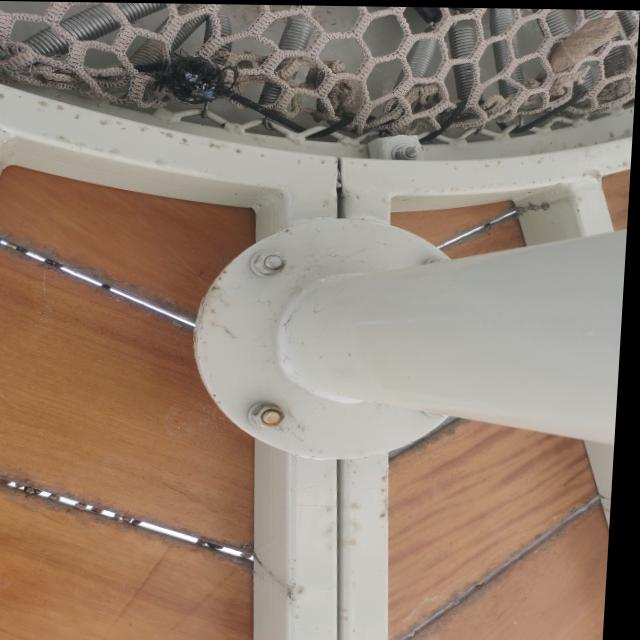Regular bolt: (258, 403, 291, 427), (259, 251, 292, 274)
